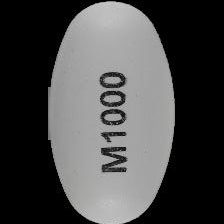13913-003: (0, 0, 224, 224)
